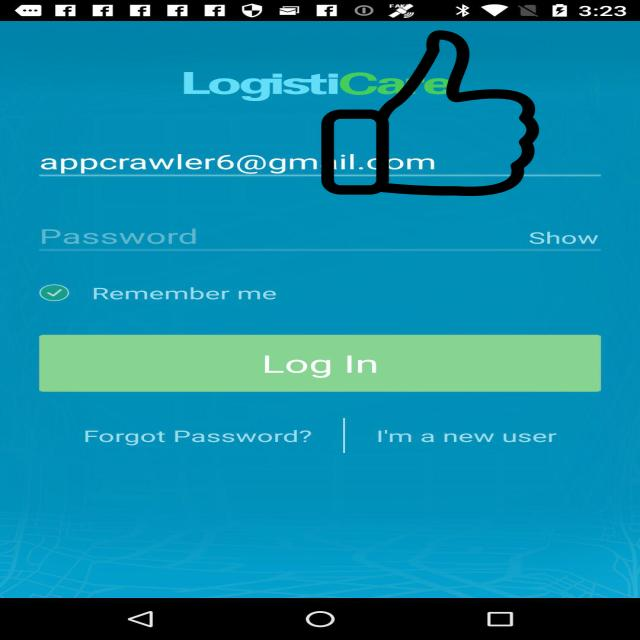privacy zuckering: (318, 30, 542, 196)
